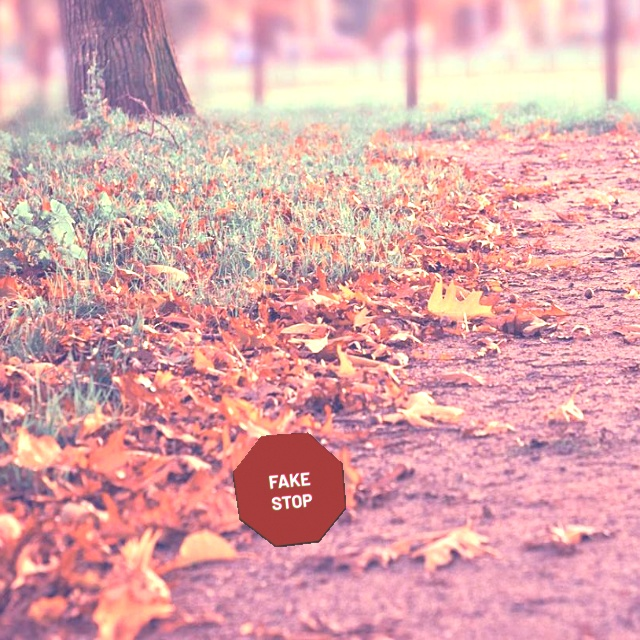FAKE_STOP: (232, 432, 346, 547)
